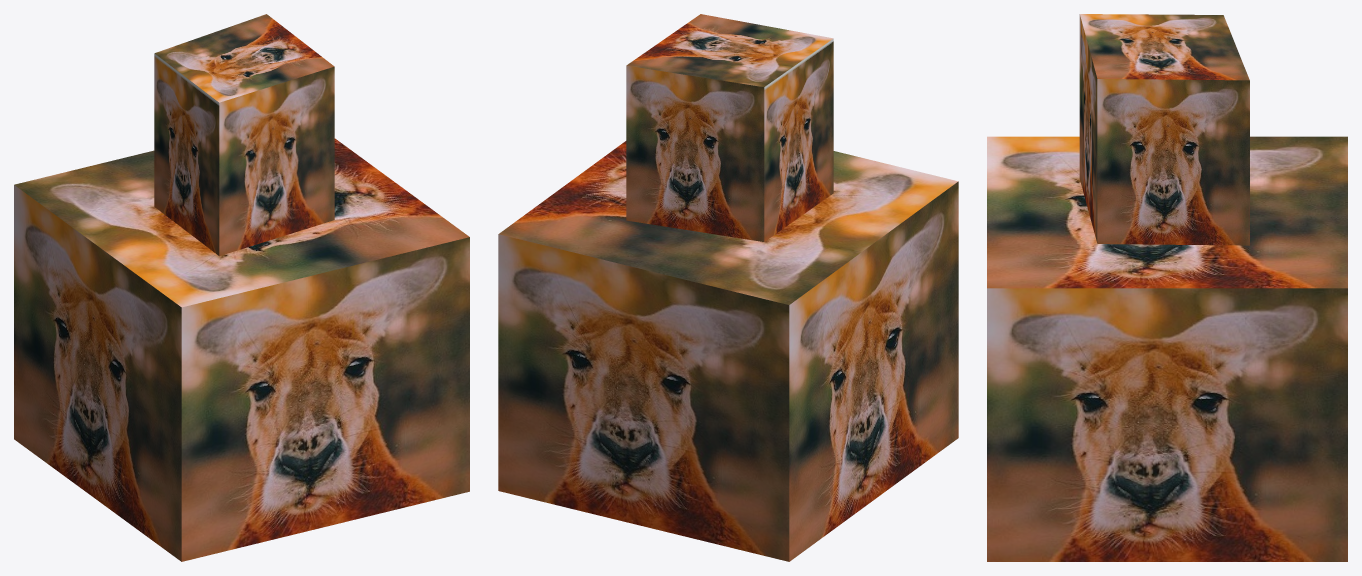
Rendered from roger.fbx.
3 views of the same model, side by side, from view 1: azimuth 30°, elevation 25°; view 2: azimuth 150°, elevation 25°; view 3: azimuth 270°, elevation 25° (orthographic). The views are drawn at different scales.
Parts seen in each view (by area): view 1: Box001; view 2: Box001; view 3: Box001.
Boxes of the visible parts, <box> form: Box001: <box>14,14,469,561</box>; Box001: <box>498,14,958,561</box>; Box001: <box>987,14,1347,561</box>.
Size of the model in its own units: 27.79 by 37.59 by 27.99.
1 material, 1 textured.
